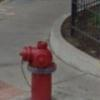a fire hydrant: (18, 39, 58, 100)
